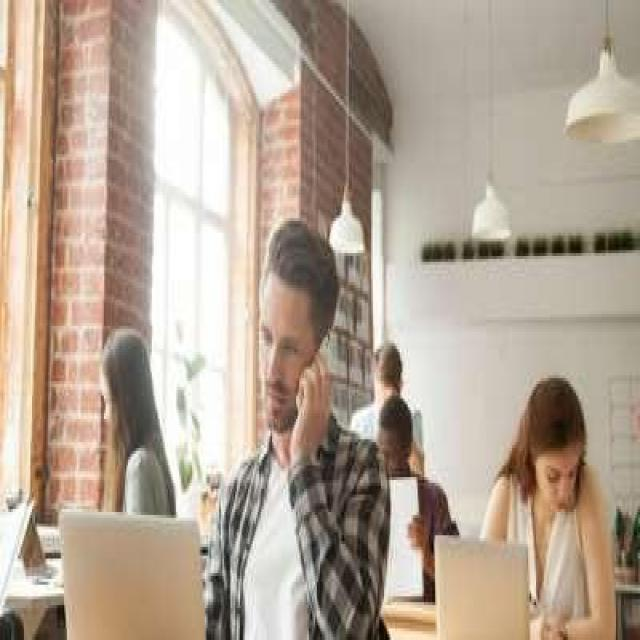person: (197, 221, 389, 637), (467, 372, 618, 637), (86, 326, 180, 605), (355, 393, 459, 599)
